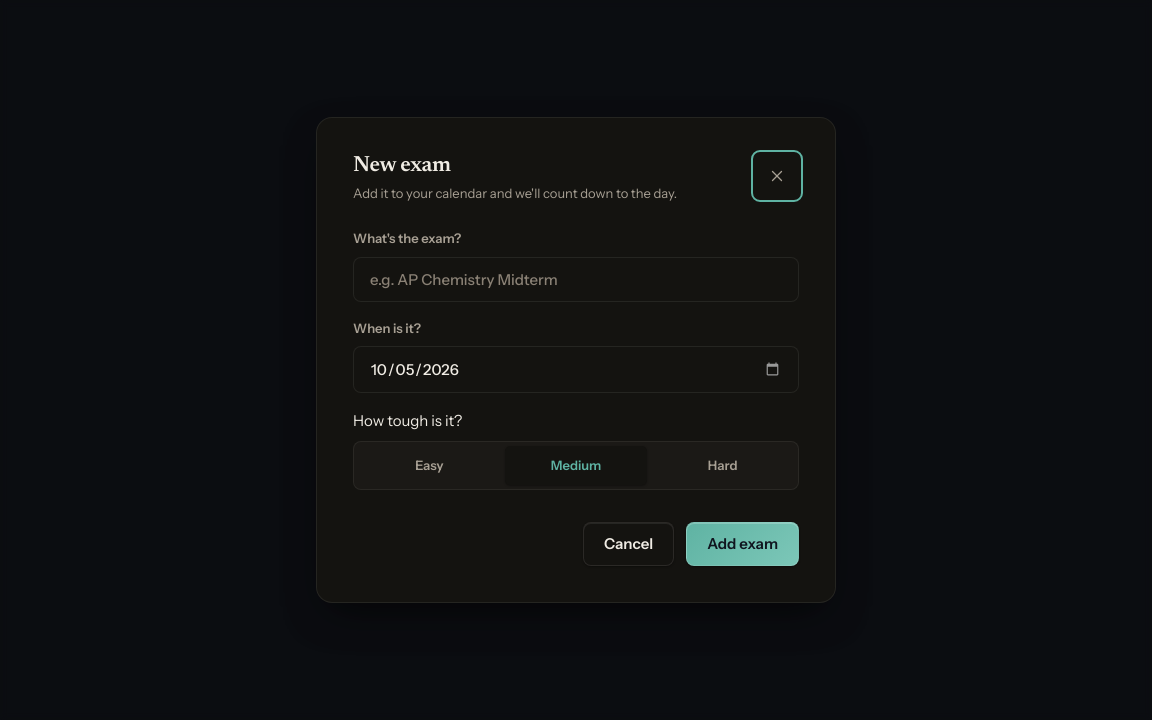
Scenario: ExamModal › refuses to create an exam dated in the past
Type "Nope" into the field labelled "What's the exam?" at x=576, y=279, box [353,257,799,302]
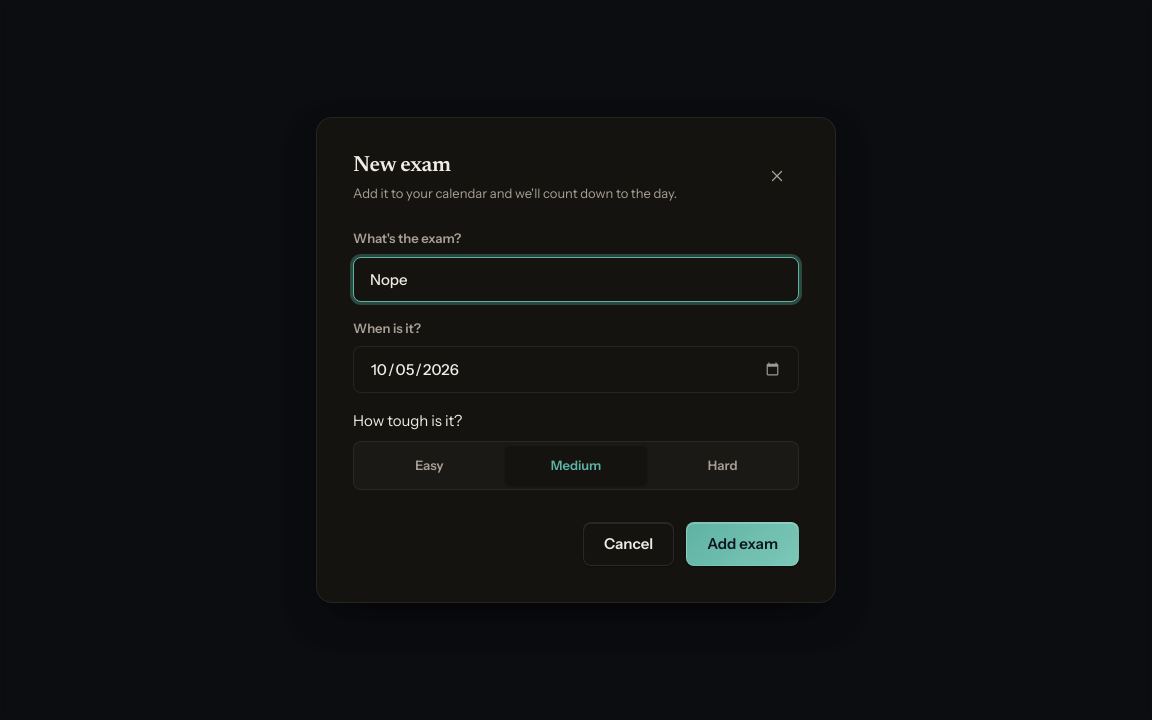
Type "2020-01-01" into the date field labelled "When is it?" at x=576, y=370, box [353,346,799,393]
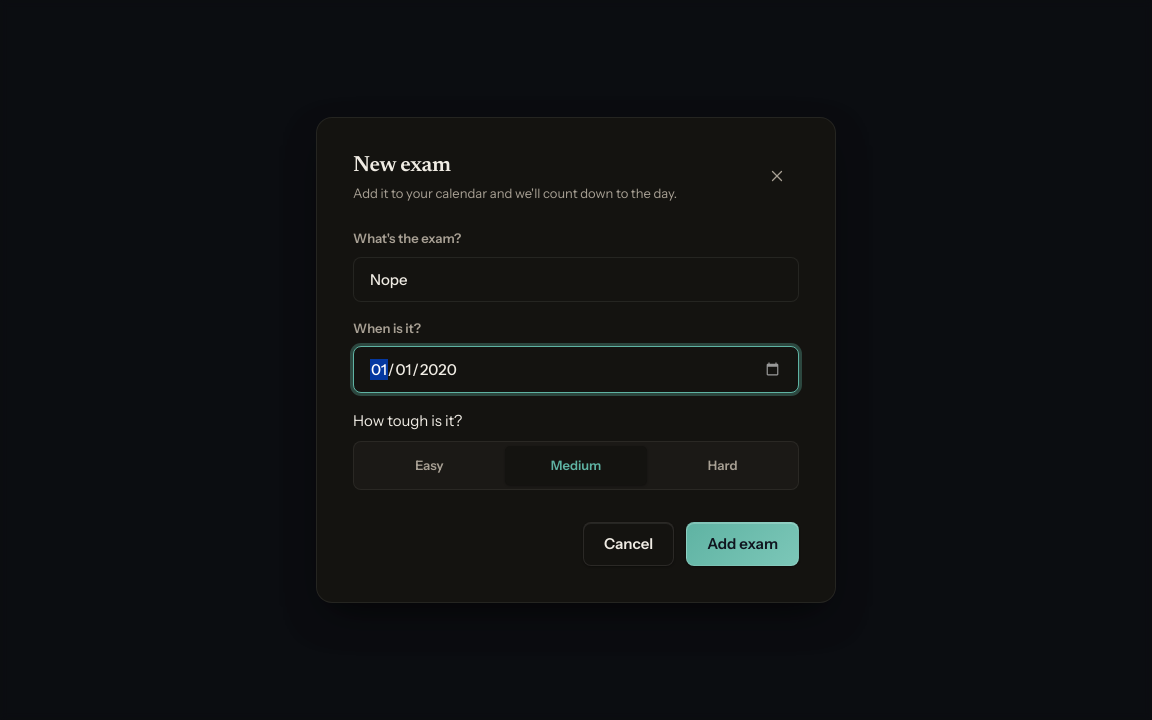
Click the button "Add exam" at x=743, y=544, box [686,522,799,566]
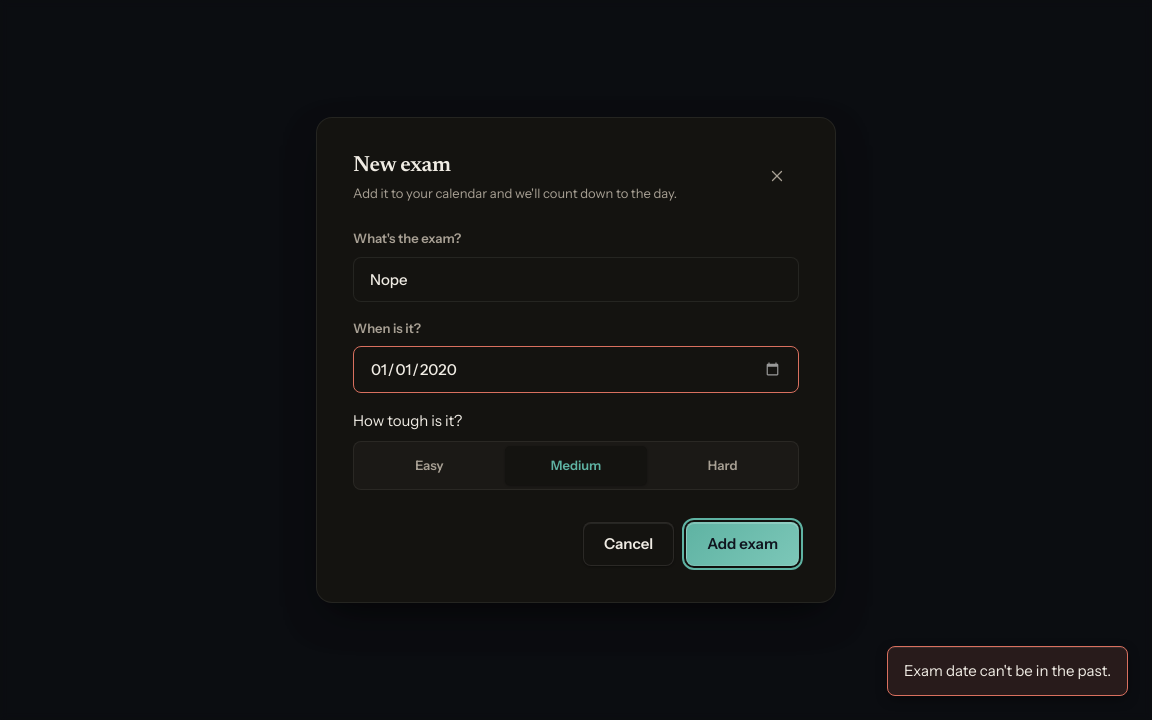
Expected: the text "Exam date can't be in the past." is shown, [904,659,1111,683]
